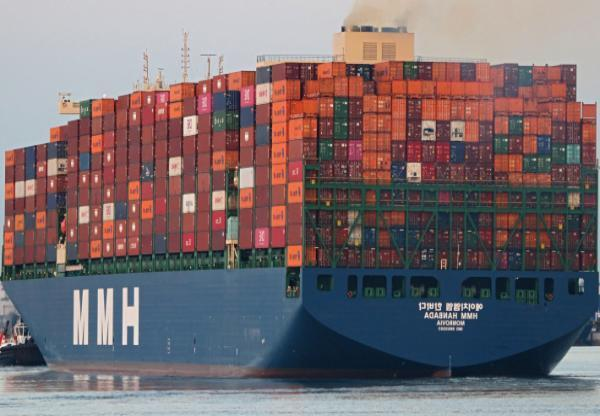Container Ship: (1, 43, 599, 380)
